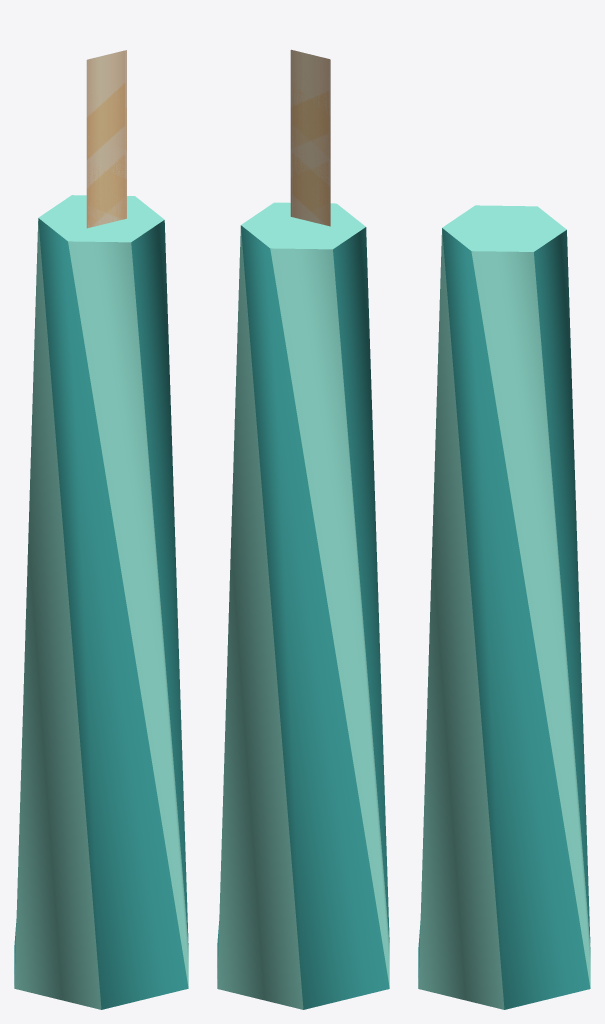
Rendered from Candle_A_03.FBX.
3 views of the same model, side by side, from view 1: azimuth 30°, elevation 25°; view 2: azimuth 150°, elevation 25°; view 3: azimuth 270°, elevation 25° (orthographic).
Parts seen in each view (by area): view 1: Candle; view 2: Candle; view 3: Candle.
Part boxes in pixels (x1,y1,x2,y2): Candle: (14,50,188,1009); Candle: (217,49,389,1009); Candle: (418,205,590,1009).
Bounding box in the file's own units: 7.85 × 40.96 × 6.8.
